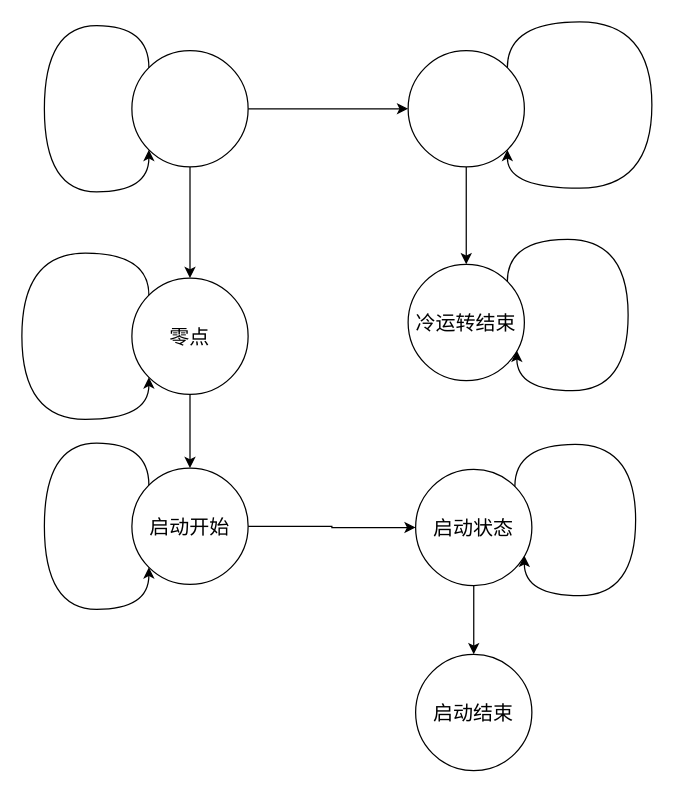
Image size: 674x793. Some labels were removed from this diagram. Here are the shapes that lost their labels. From the top down, the box of each, then its label:
(131, 49, 248, 167): 冷运转启动
(407, 49, 524, 167): 冷运转
